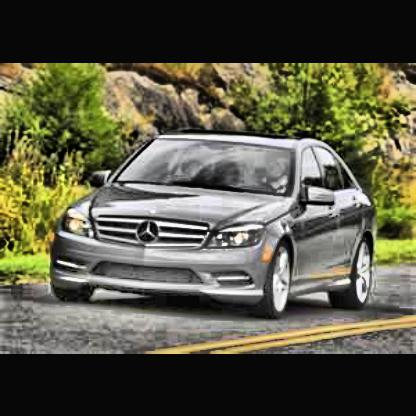Mercedes-Benz C-Class Sedan 2012: (53, 133, 378, 324)
